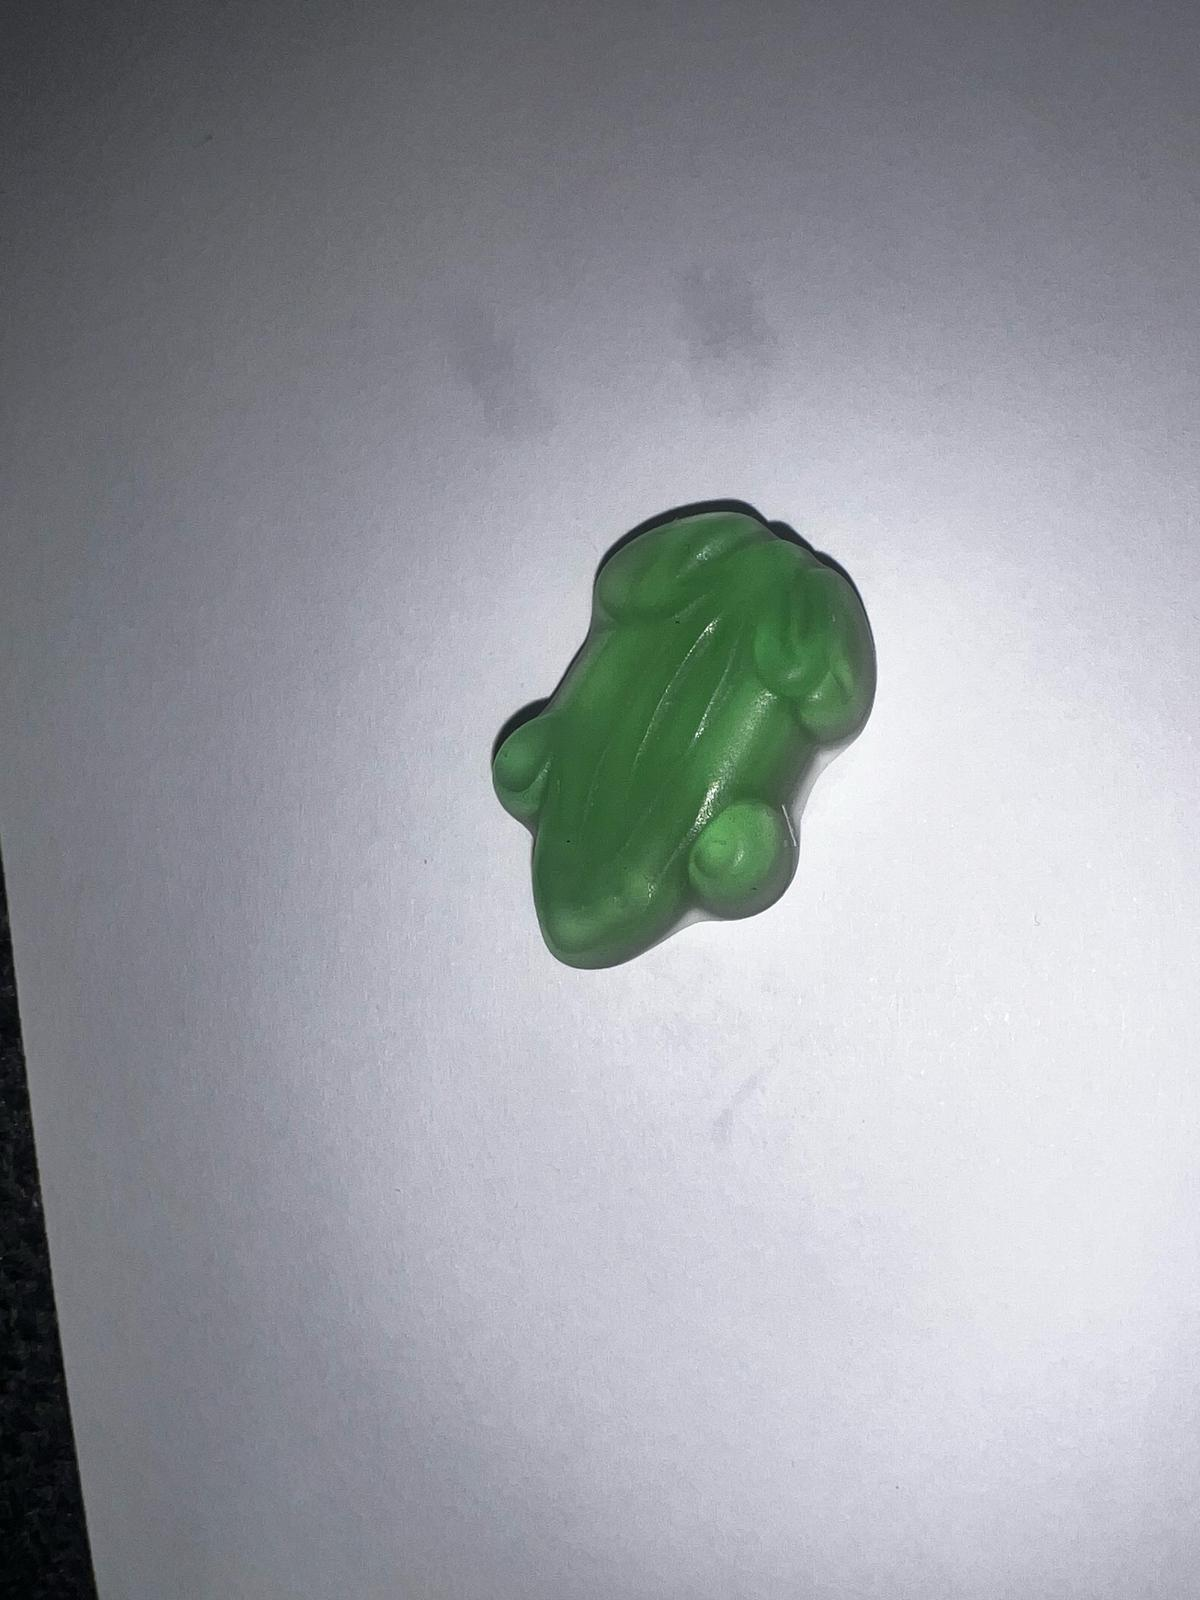frog: (487, 496, 882, 978)
